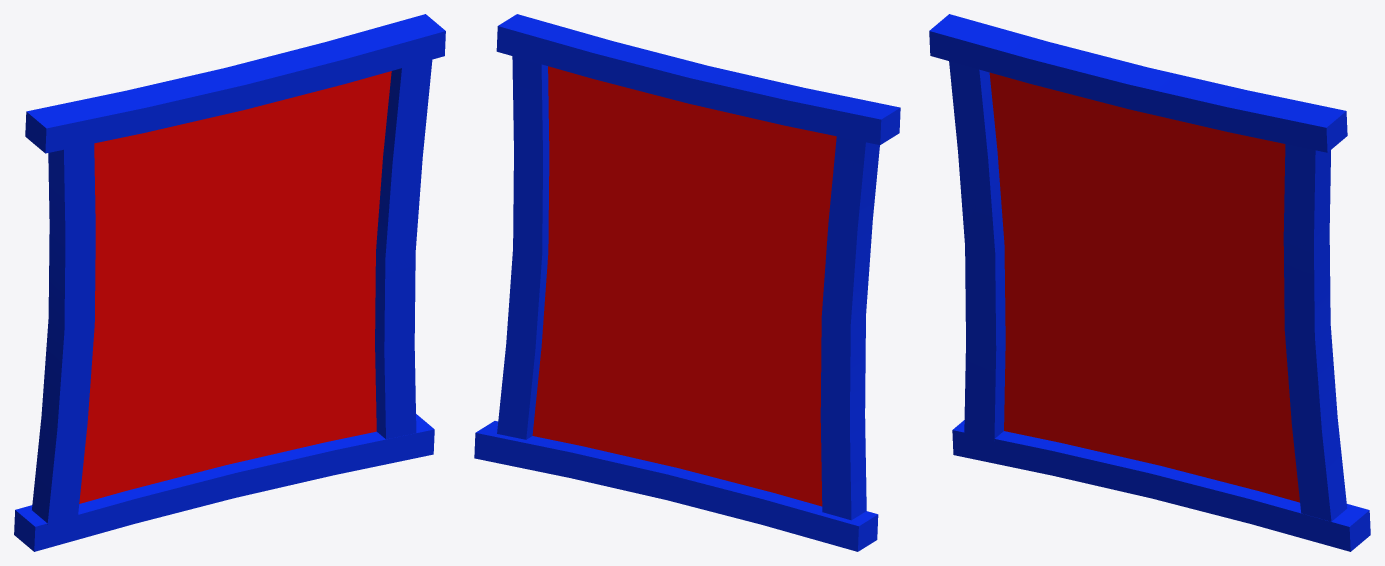
The model's file is Window.fbx.
3 views of the same model, side by side, from view 1: azimuth 30°, elevation 25°; view 2: azimuth 150°, elevation 25°; view 3: azimuth 330°, elevation 25° (orthographic). The views are drawn at different scales.
Visible parts, largest first — view 1: Window; view 2: Window; view 3: Window.
Boxes of the visible parts, x1=… form: Window: x1=14, y1=14, x2=445, y2=551; Window: x1=474, y1=14, x2=900, y2=551; Window: x1=929, y1=14, x2=1370, y2=551.
Size of the model in its own units: 52.25 by 54.25 by 8.59.
